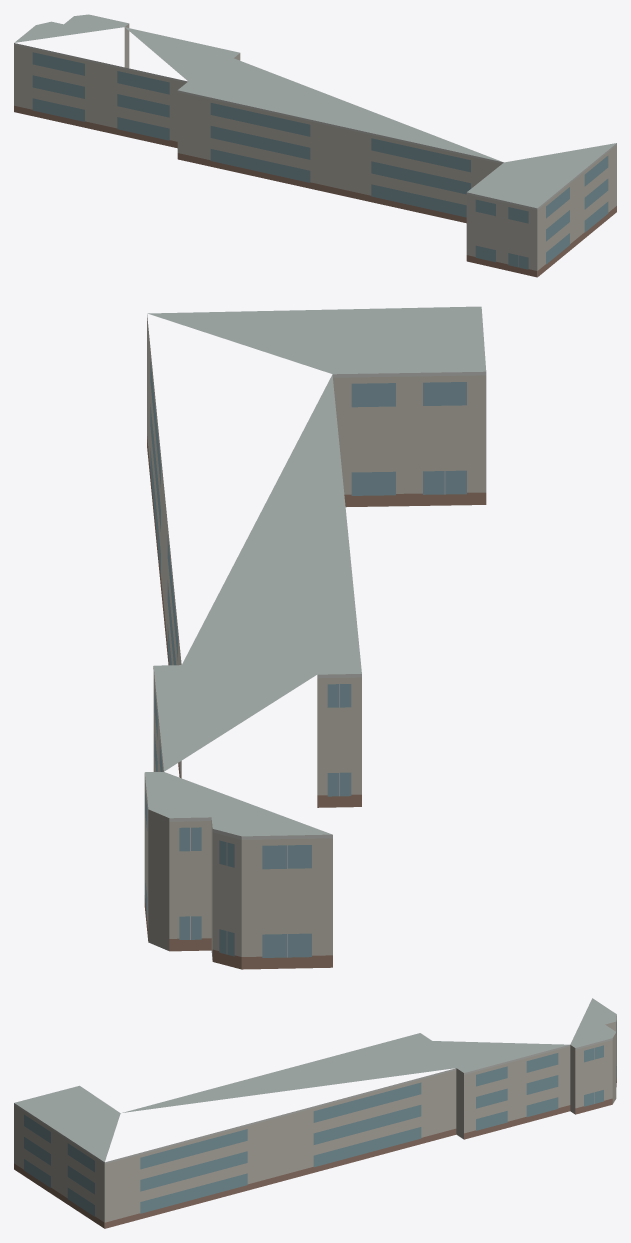
The model's file is survey-upis-32830896.glb.
3 views of the same model, one above another, from view 1: azimuth 30°, elevation 25°; view 2: azimuth 150°, elevation 25°; view 3: azimuth 270°, elevation 25° (orthographic). The views are drawn at different scales.
Parts seen in each view (by area): view 1: survey-upis-32830896.tmp; view 2: survey-upis-32830896.tmp; view 3: survey-upis-32830896.tmp.
Boxes of the visible parts, x1,y1,x2,y2 form: survey-upis-32830896.tmp: (14, 14, 616, 277); survey-upis-32830896.tmp: (144, 306, 486, 969); survey-upis-32830896.tmp: (14, 998, 616, 1228).
Bounding box in the file's own units: 48.44 × 9.15 × 75.13.
